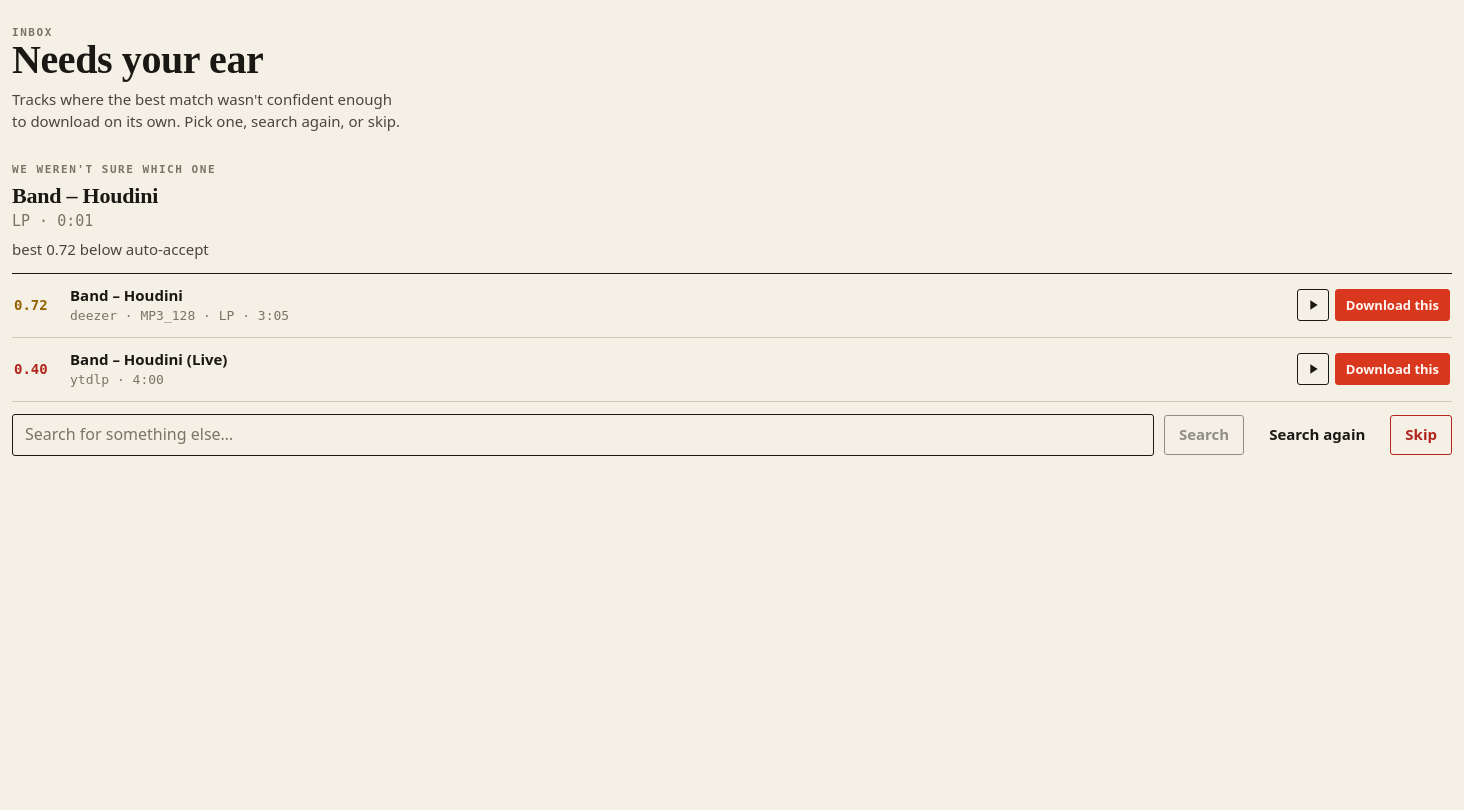
Test: inbox › says so when there is no preview
Expected: the heading "Band – Houdini" is shown, [12,180,158,211]
Click the button named "Preview Band – Houdini". click: (1313, 305)
box: [1297,289,1329,321]
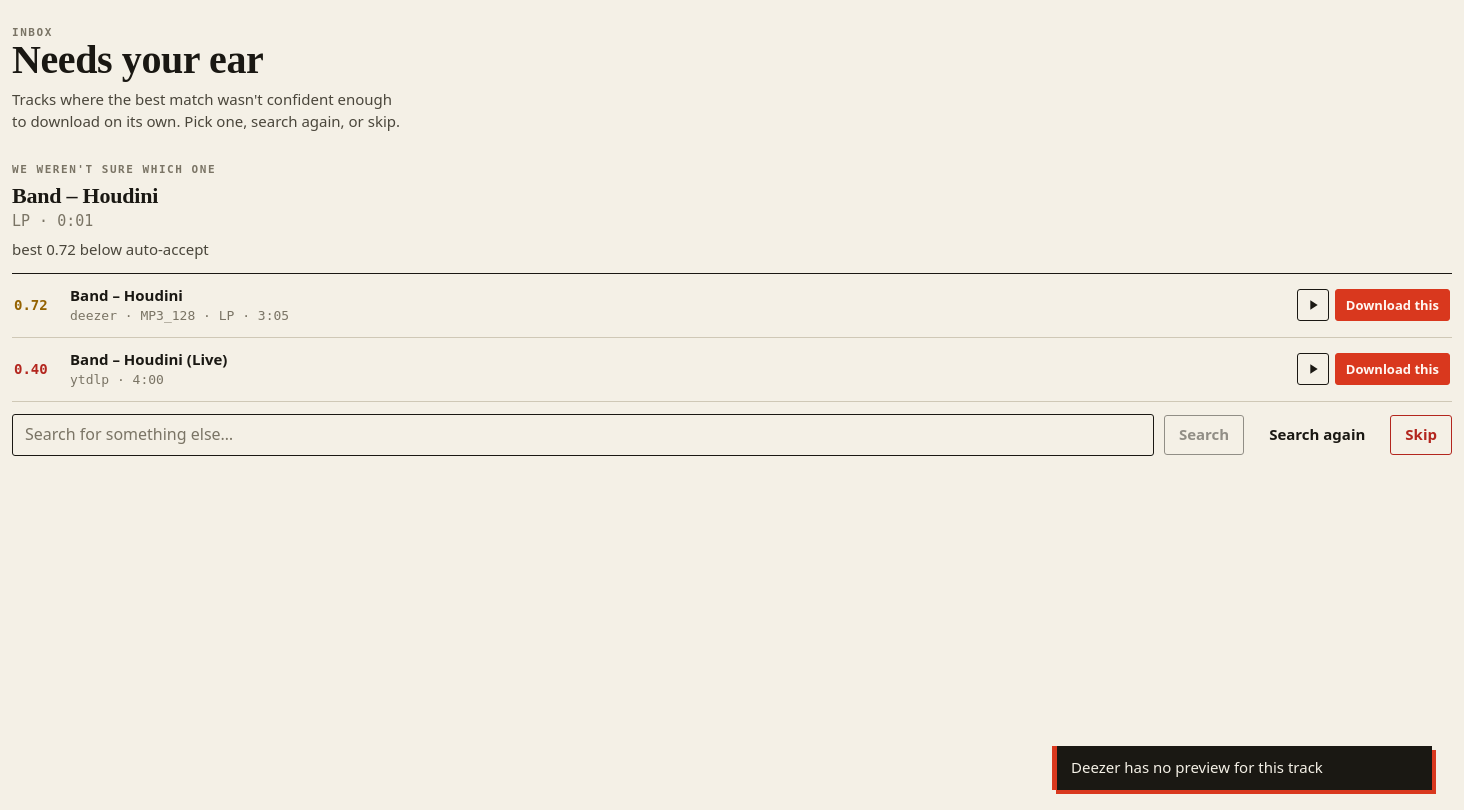
Expected: the text "Deezer has no preview for this track" is shown, [1071,757,1323,777]
